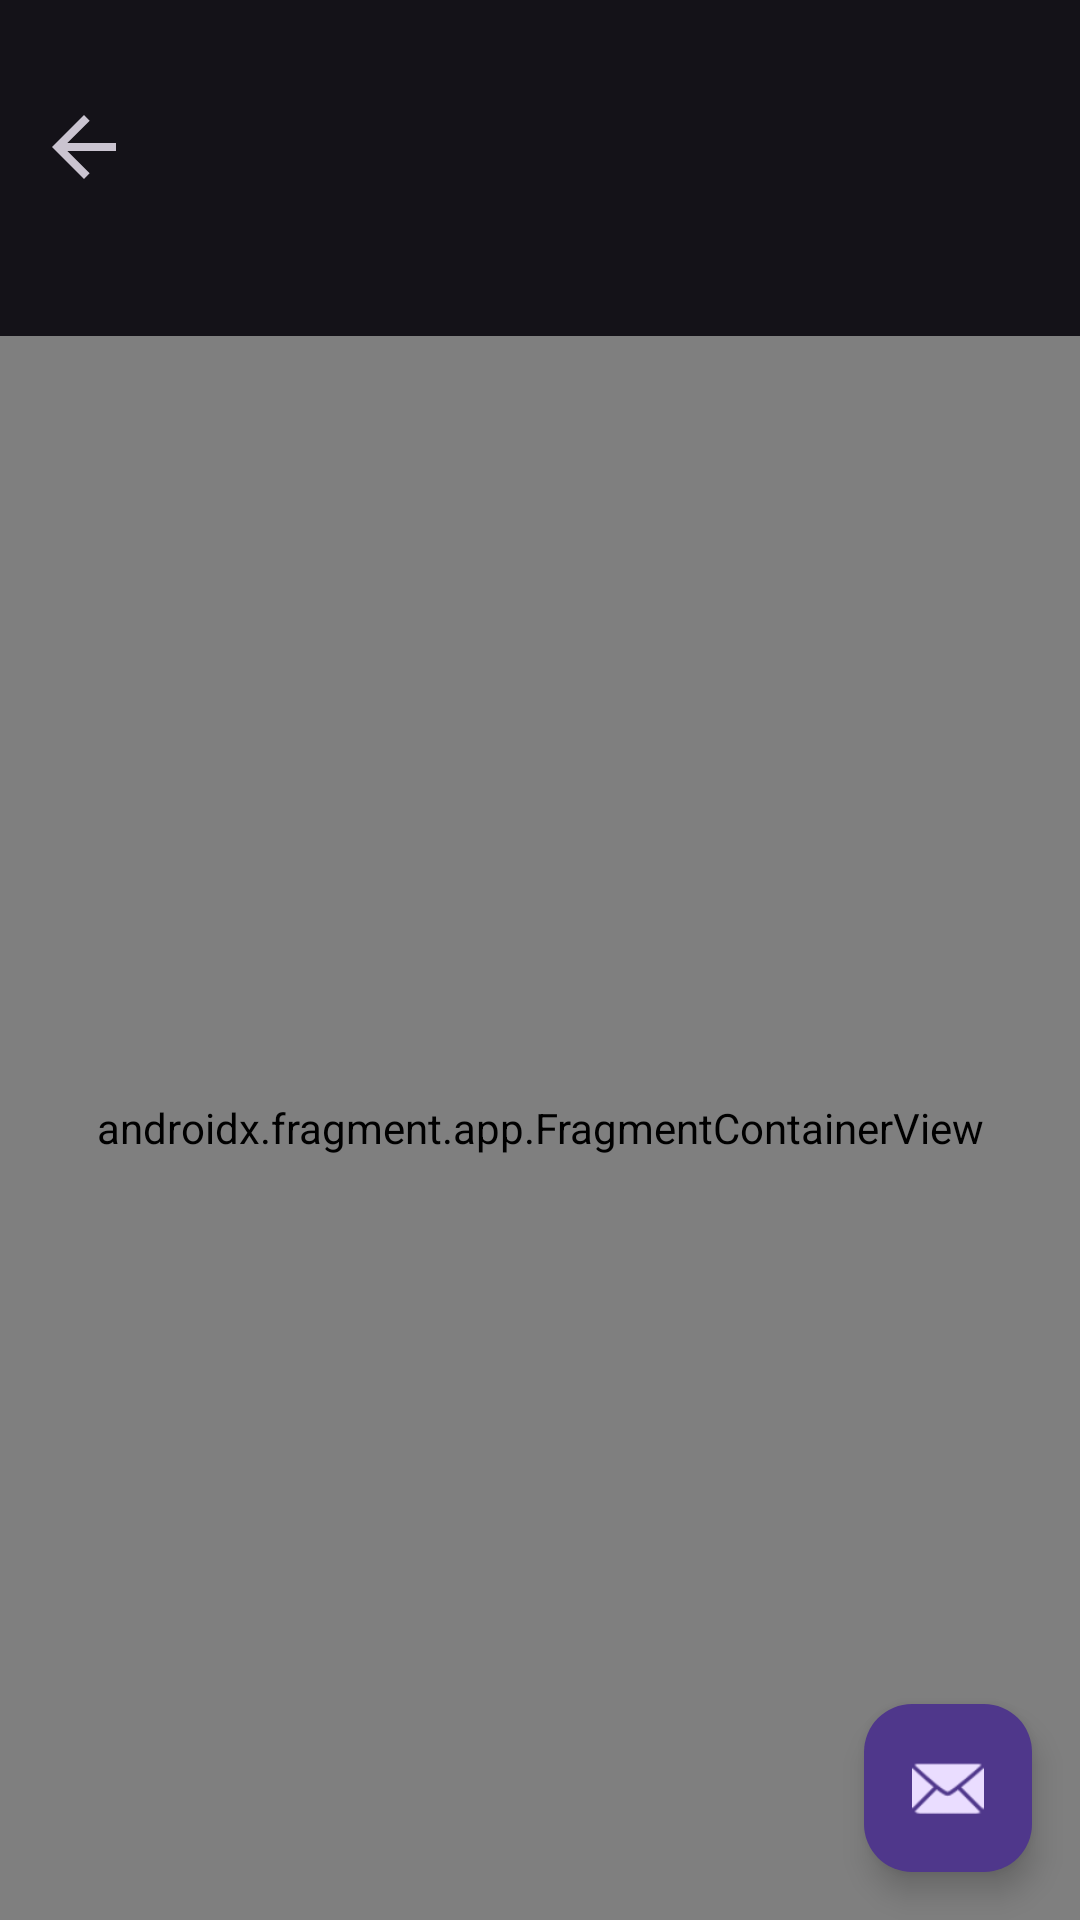

Screen size 1080w x 1920h. Icon name, then its box in pixels as (x1, y1, x2, y2):
Floating Action Bar: (864, 1704, 1032, 1872)
